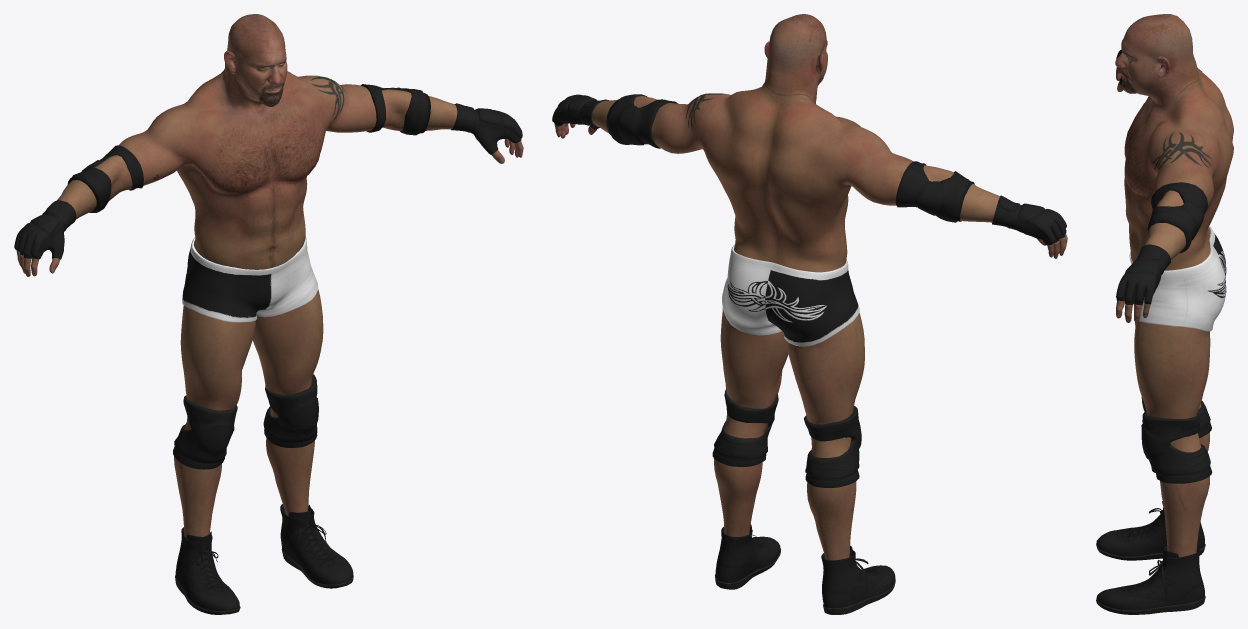
File: wwe_goldberg_2k22.glb
3 renders of one model, left to right at view 1: azimuth 30°, elevation 25°; view 2: azimuth 150°, elevation 25°; view 3: azimuth 270°, elevation 25°, orthographic.
Visible parts, largest first — view 1: M_Body.001_15, M_Head.001_9, M_Underwear_0, M_Shoes_8, M_R_Kneepad_7, M_L_Kneepad_4, M_R_A_Acce_5, M_L_A_Acce_2, M_R_Elbowpad_6, M_L_Elbowpad_3; view 2: M_Body.001_15, M_Underwear_0, M_Shoes_8, M_Head.001_9, M_R_Kneepad_7, M_R_Elbowpad_6, M_L_Kneepad_4, M_L_Elbowpad_3, M_R_A_Acce_5, M_L_A_Acce_2; view 3: M_Body.001_15, M_Head.001_9, M_Shoes_8, M_Underwear_0, M_L_Kneepad_4, M_L_Elbowpad_3, M_L_A_Acce_2, M_R_Kneepad_7.
Boxes of the visible parts, box(x1,y1,x2,y2) form: M_Body.001_15: box(16, 71, 523, 537); M_Head.001_9: box(201, 14, 299, 131); M_Underwear_0: box(182, 237, 318, 322); M_Shoes_8: box(175, 504, 353, 614); M_R_Kneepad_7: box(173, 395, 237, 469); M_L_Kneepad_4: box(263, 374, 318, 447); M_R_A_Acce_5: box(14, 200, 76, 259); M_L_A_Acce_2: box(451, 103, 522, 154); M_R_Elbowpad_6: box(67, 145, 143, 212); M_L_Elbowpad_3: box(361, 84, 430, 135); M_Body.001_15: box(554, 90, 1067, 560); M_Underwear_0: box(722, 244, 859, 346); M_Shoes_8: box(715, 524, 895, 614); M_Head.001_9: box(741, 14, 827, 117); M_R_Kneepad_7: box(804, 406, 861, 487); M_R_Elbowpad_6: box(895, 161, 974, 222); M_L_Kneepad_4: box(712, 389, 778, 466); M_L_Elbowpad_3: box(606, 94, 678, 148); M_R_A_Acce_5: box(992, 195, 1066, 245); M_L_A_Acce_2: box(552, 94, 608, 129); M_Body.001_15: box(1116, 67, 1233, 557); M_Head.001_9: box(1115, 14, 1205, 131); M_Shoes_8: box(1096, 501, 1205, 614); M_Underwear_0: box(1129, 226, 1226, 331); M_L_Kneepad_4: box(1141, 411, 1212, 483); M_L_Elbowpad_3: box(1147, 182, 1208, 253); M_L_A_Acce_2: box(1116, 244, 1170, 305); M_R_Kneepad_7: box(1141, 397, 1211, 438).
Bounding box in the file's own units: 1.74 × 1.89 × 0.4178.
Materials: 15 (13 with a texture image).
